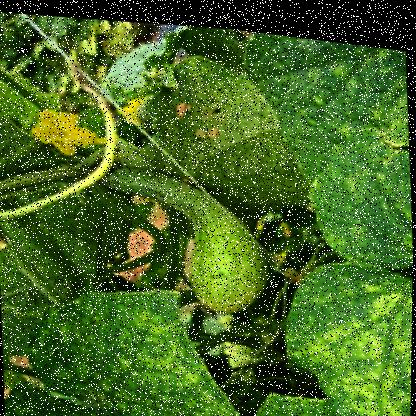DownyMildew: (40, 302, 257, 415), (299, 267, 413, 415), (270, 27, 410, 147)
